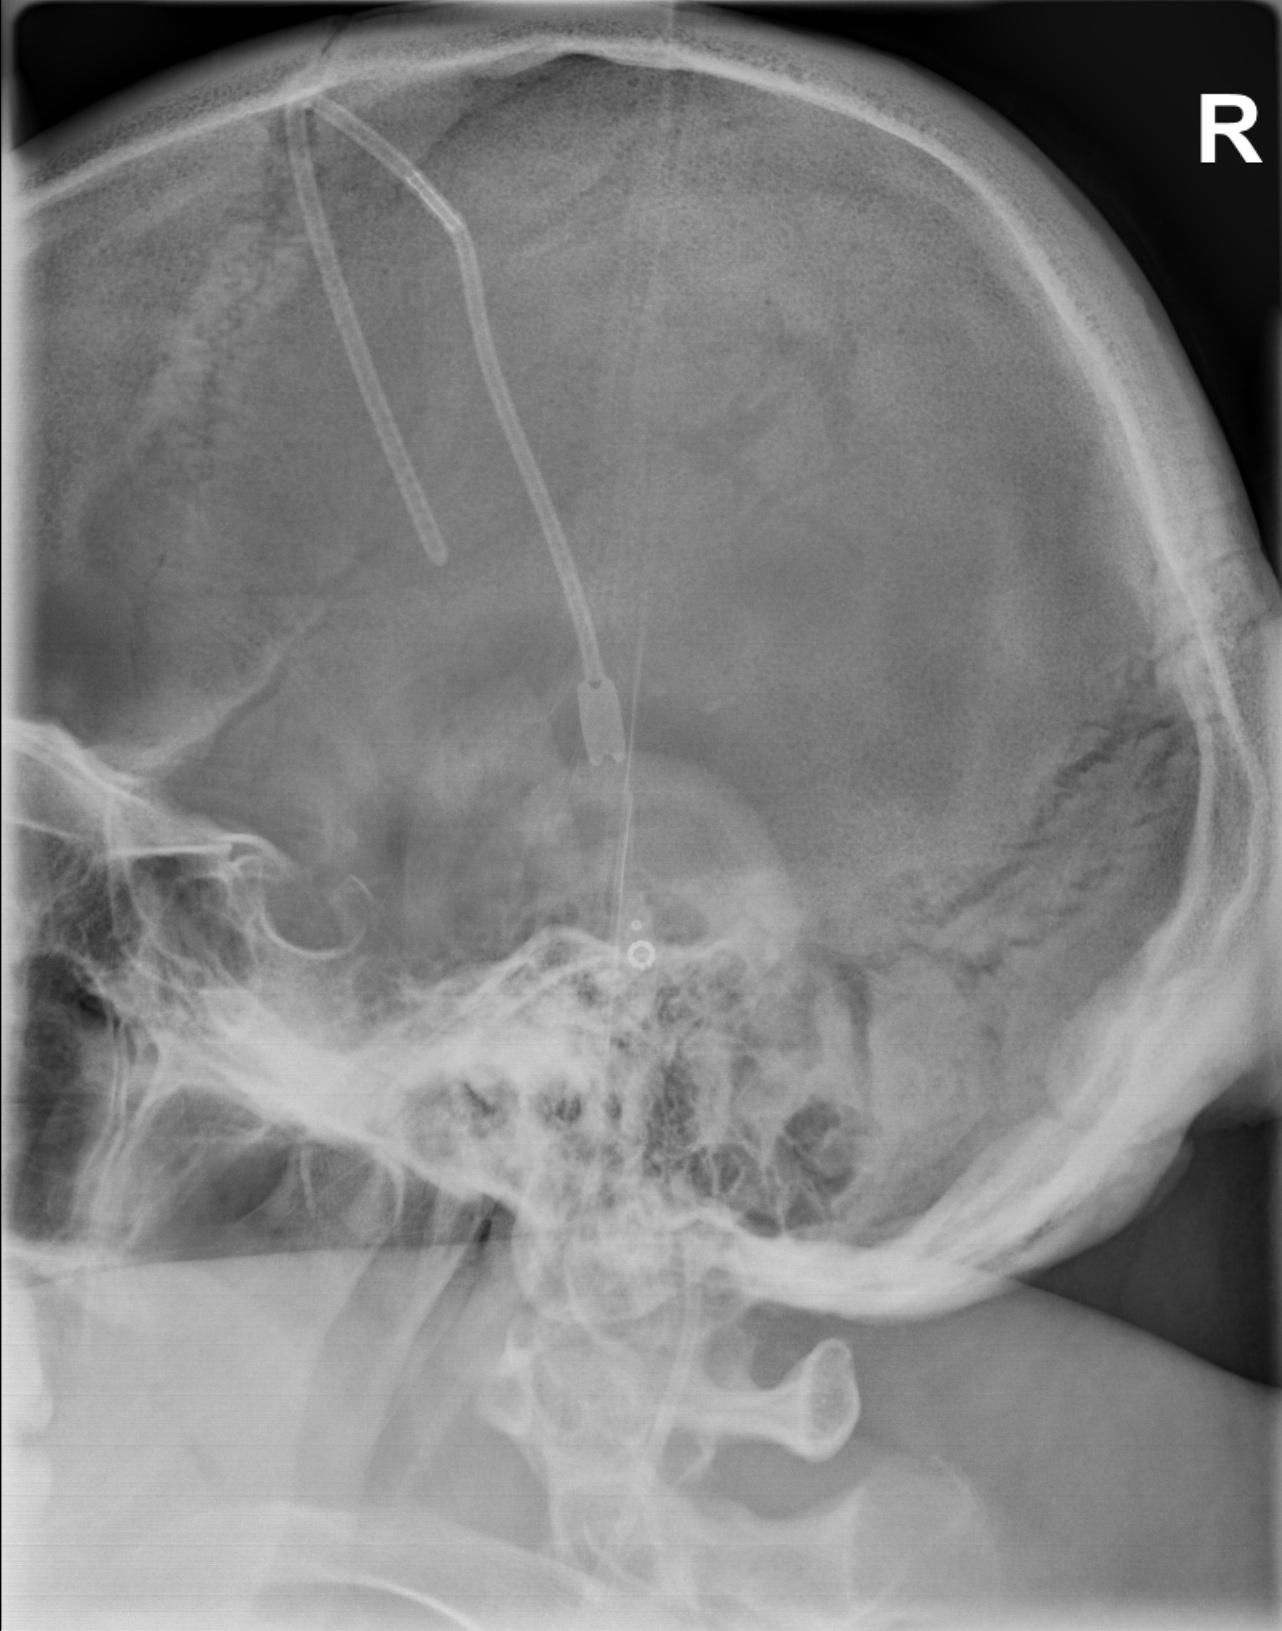Codman Hakim: (616, 912, 667, 986)
